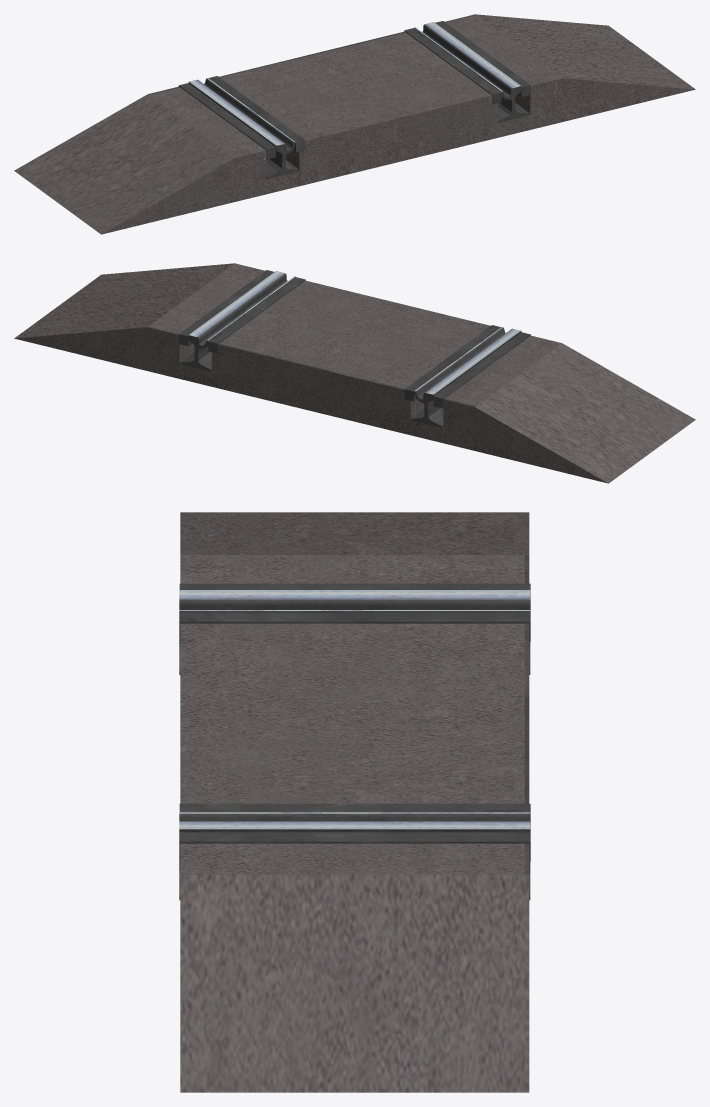
Rendered from sunken_road_real.obj.
The picture shows the model from 3 angles, top to bottom: view 1: azimuth 30°, elevation 25°; view 2: azimuth 150°, elevation 25°; view 3: azimuth 270°, elevation 25°; orthographic projection. The views are drawn at different scales.
Parts seen in each view (by area): view 1: rail_road; view 2: rail_road; view 3: rail_road.
Boxes of the visible parts, x1=… form: rail_road: x1=14, y1=14, x2=695, y2=234; rail_road: x1=14, y1=263, x2=695, y2=483; rail_road: x1=179, y1=512, x2=530, y2=1092.
Size of the model in its own units: 4 by 0.2981 by 1.02.
Materials: 3 (3 with a texture image).
